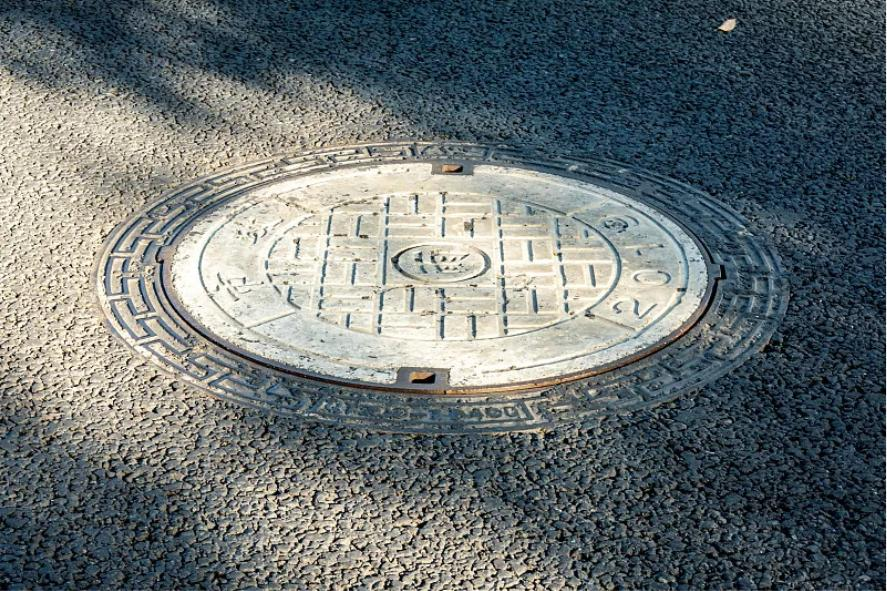wellcover: (180, 135, 730, 399)
